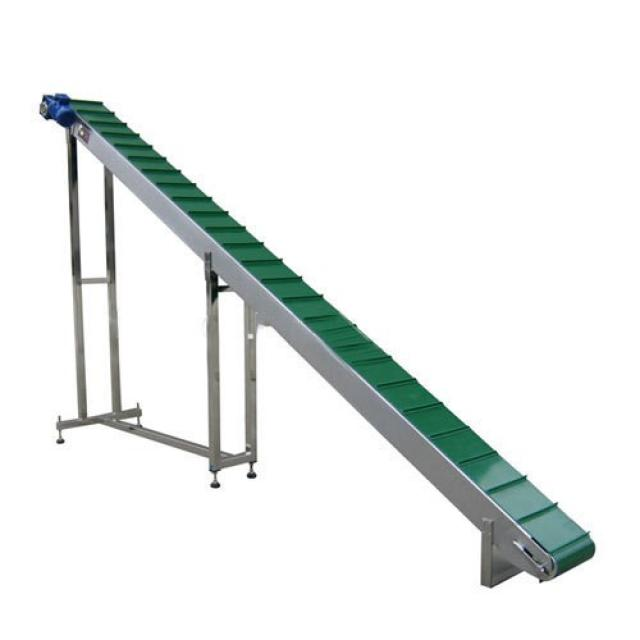conveyor: (22, 66, 616, 600)
